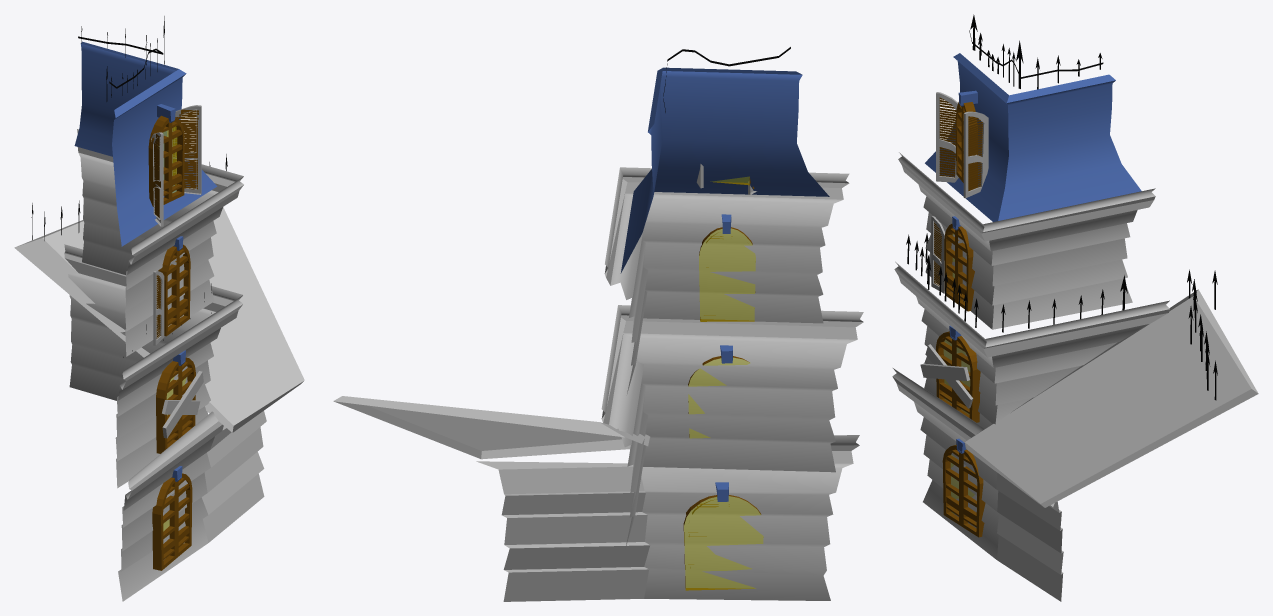
The picture shows the model from 3 angles, left to right: view 1: azimuth 30°, elevation 25°; view 2: azimuth 150°, elevation 25°; view 3: azimuth 270°, elevation 25°; orthographic projection. The views are drawn at different scales.
Visible parts, largest first — view 1: polySurface38, pCube4, pCube107, pCube106, pCube109, pCube105, window_cover1, pCube108, window_cover, window_cover2, polySurface1; view 2: polySurface38, pCube4, pCube107, pCube105, pCube109; view 3: polySurface38, pCube4, pCube107, pCube109, pCube105, window_cover1, window_cover, pCube108, pCube106, polySurface34, polySurface1, window_cover2 (+1 smaller).
Boxes of the visible parts, <box> form: polySurface38: <box>14,129,304,601</box>; pCube4: <box>74,41,217,246</box>; pCube107: <box>152,466,192,570</box>; pCube106: <box>148,104,184,206</box>; pCube109: <box>156,350,195,453</box>; pCube105: <box>158,236,190,336</box>; window_cover1: <box>167,105,201,194</box>; pCube108: <box>162,371,203,438</box>; window_cover: <box>151,132,163,226</box>; window_cover2: <box>153,270,164,345</box>; polySurface1: <box>78,16,164,101</box>; polySurface38: <box>333,167,863,601</box>; pCube4: <box>620,67,829,273</box>; pCube107: <box>683,482,763,590</box>; pCube105: <box>699,214,755,321</box>; pCube109: <box>688,345,749,438</box>; polySurface38: <box>892,152,1258,601</box>; pCube4: <box>925,53,1141,221</box>; pCube107: <box>942,438,985,537</box>; pCube109: <box>936,325,980,422</box>; pCube105: <box>944,216,974,311</box>; window_cover1: <box>963,111,988,198</box>; window_cover: <box>936,92,958,182</box>; pCube108: <box>920,344,973,408</box>; pCube106: <box>956,90,977,189</box>; polySurface34: <box>906,233,1127,332</box>; polySurface1: <box>969,14,1103,89</box>; window_cover2: <box>931,216,945,293</box>.
Bounding box in the file's own units: 7.05 × 12.66 × 8.32.
